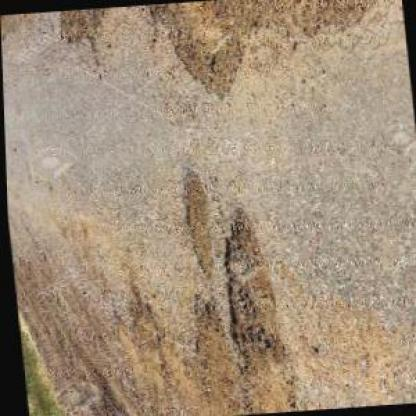pothole: (211, 207, 291, 370), (176, 168, 215, 276)
